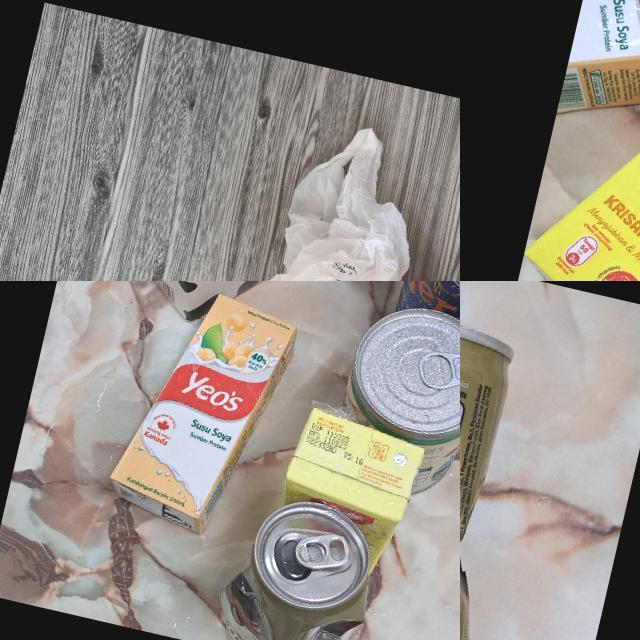aba de lata: (293, 524, 355, 575), (413, 340, 460, 403)
caixinha: (103, 281, 300, 546), (504, 0, 640, 281), (268, 400, 426, 582), (554, 0, 640, 174)
lata: (460, 281, 559, 640), (324, 292, 460, 506), (208, 484, 386, 640)
sacola plástica: (205, 110, 460, 281)
